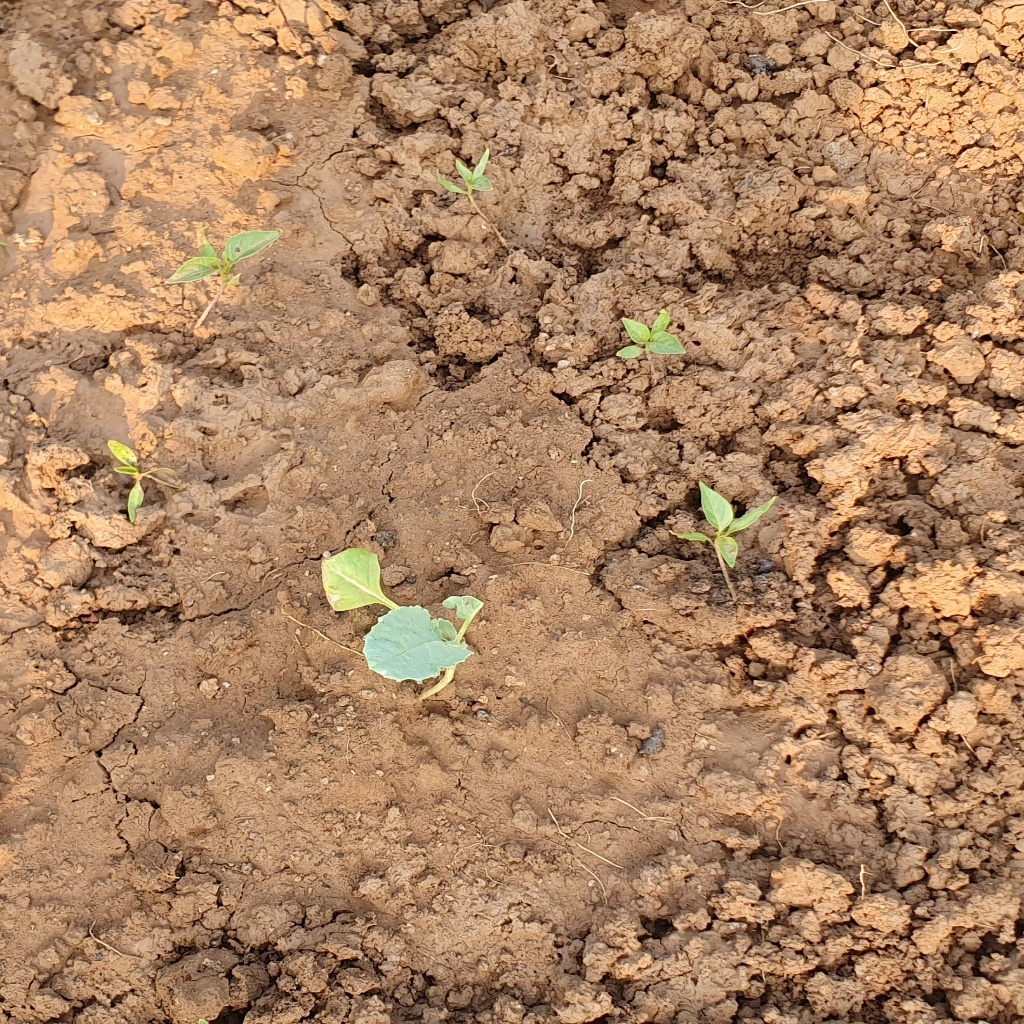crop: (312, 544, 486, 700)
weed: (678, 495, 768, 572), (178, 240, 271, 296), (97, 448, 178, 507), (609, 309, 686, 366), (434, 156, 501, 210)
